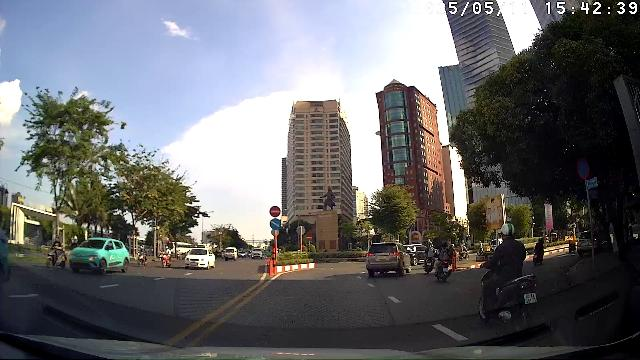102-cam-di-nguoc-chieu: (269, 207, 281, 218)
302a-huong-phai-di-vong-chuong-ngai-vat-1: (270, 218, 282, 230)
